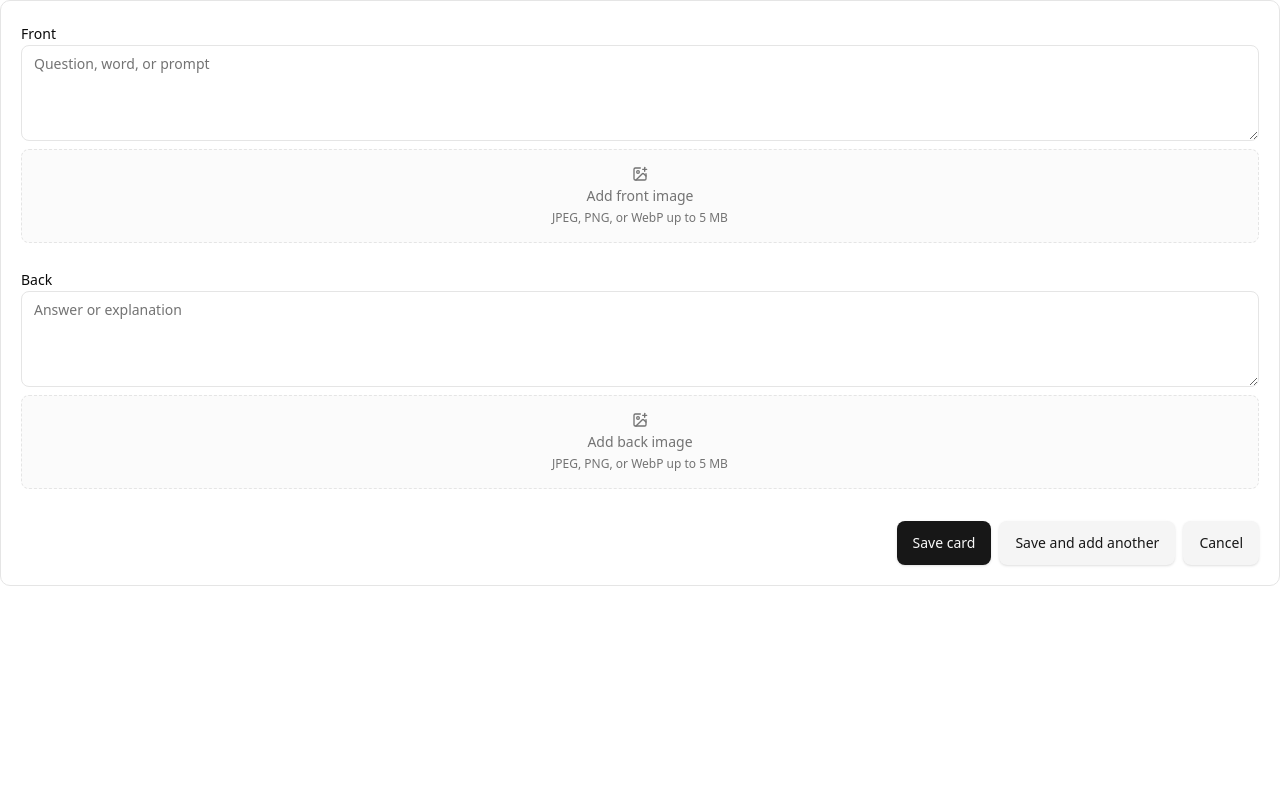
Test: CardForm › shows which save action is in progress when saving and adding another
In the text box labelled "Front": (640, 93) [21,45,1259,141], type "front"
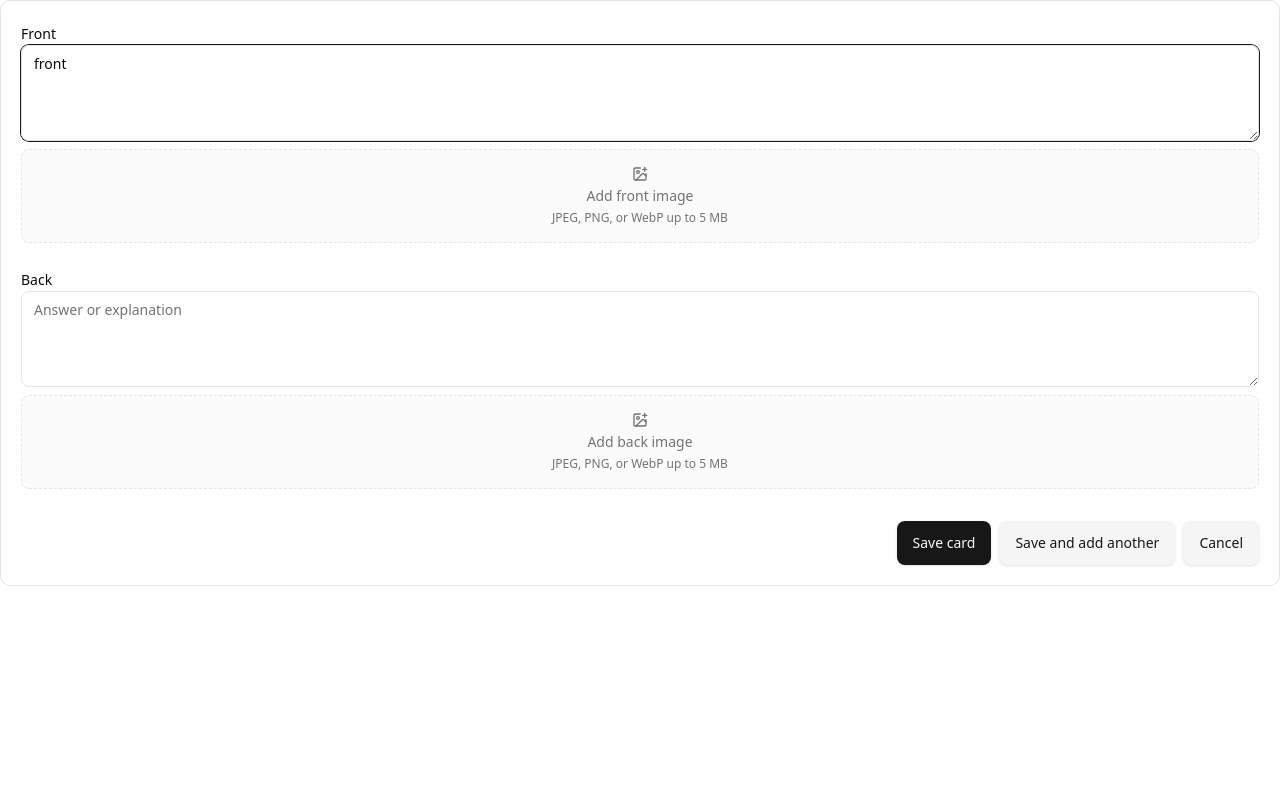
In the text box labelled "Back": (640, 339) [21,291,1259,387], type "back"
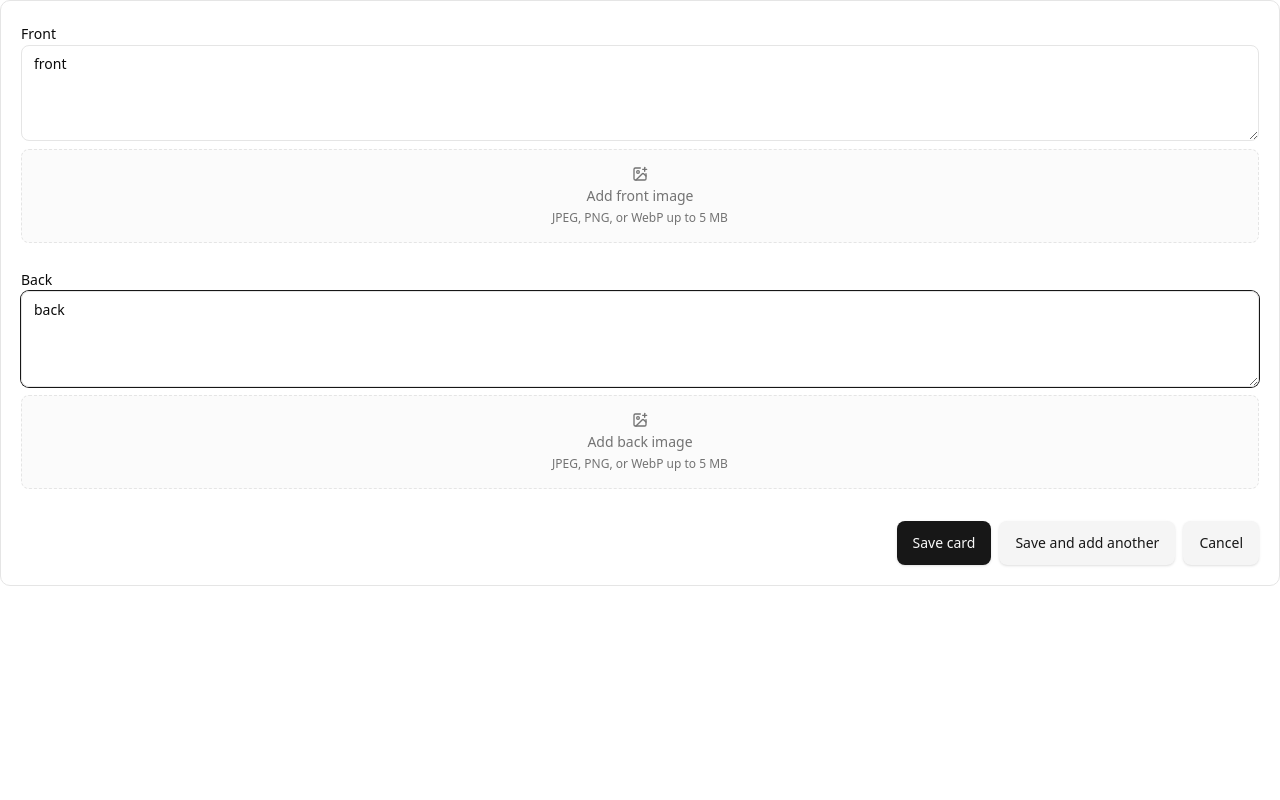
Click the button "Save and add another": (1087, 543) [999,521,1175,565]
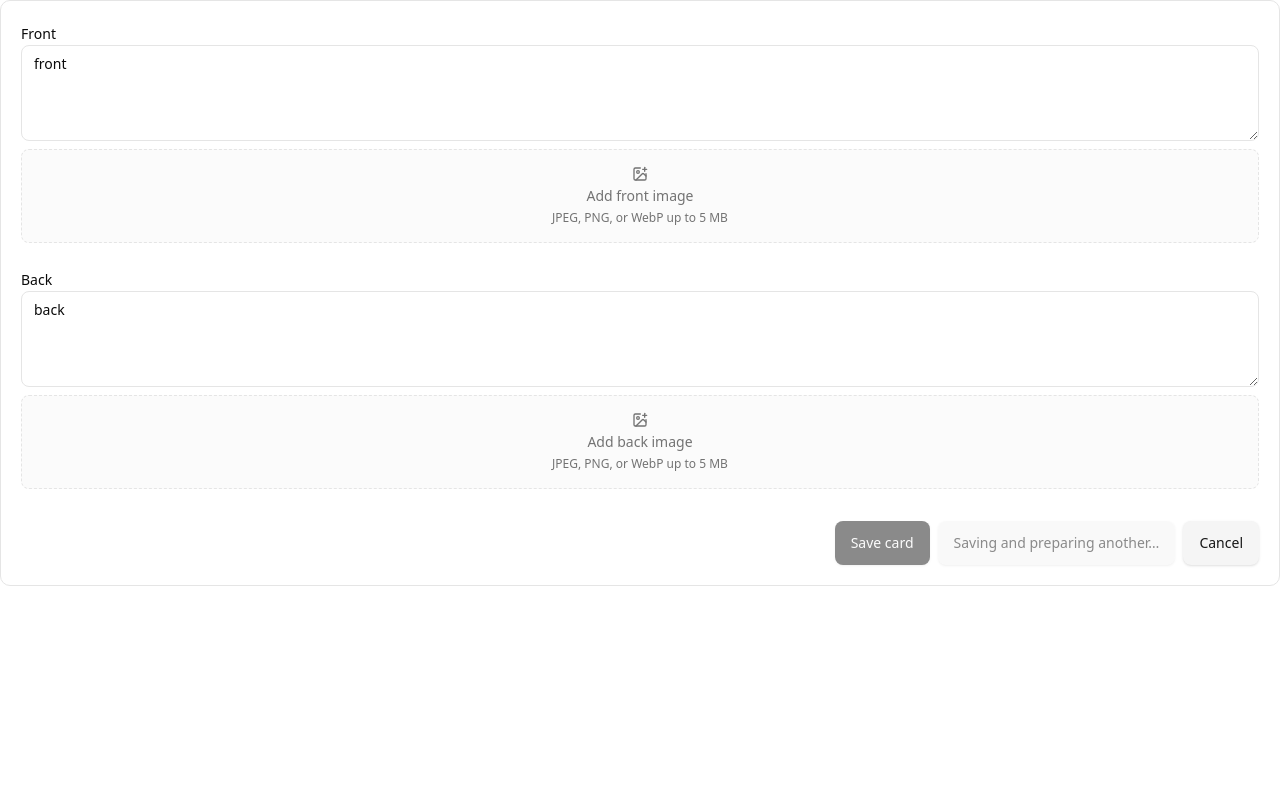
Result: the button "Saving and preparing another…" is shown at [938,521,1175,565]
